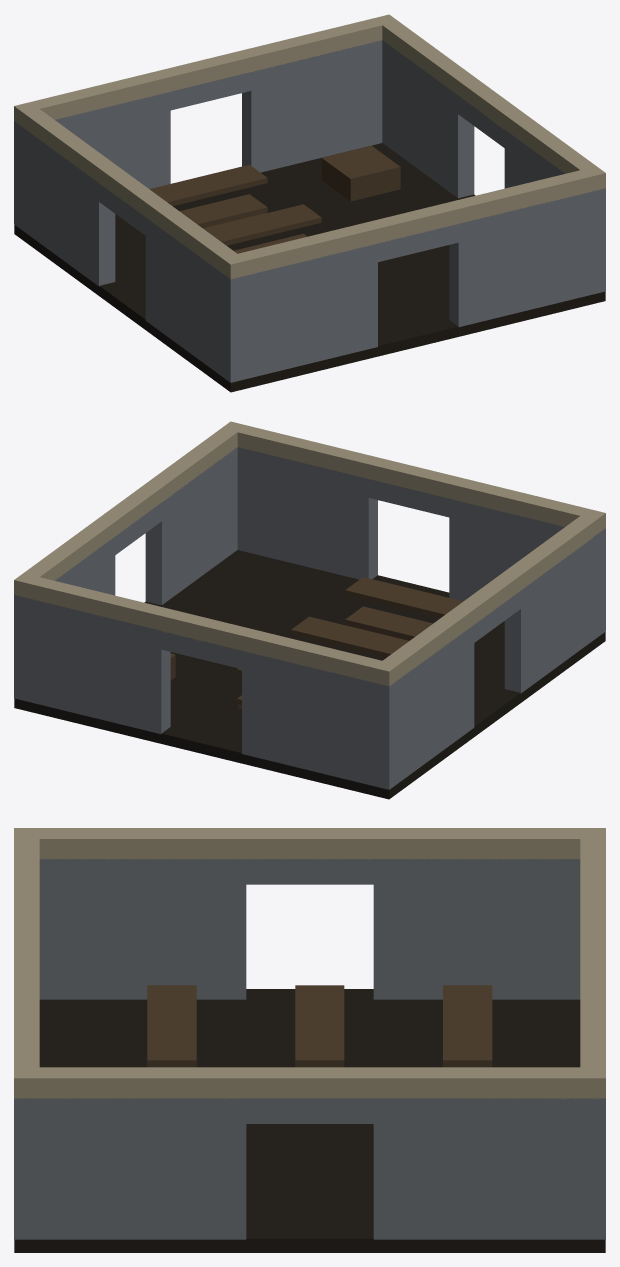
File: BarracksBunk.fbx
The picture shows the model from 3 angles, top to bottom: view 1: azimuth 30°, elevation 25°; view 2: azimuth 150°, elevation 25°; view 3: azimuth 270°, elevation 25°; orthographic projection. The views are drawn at different scales.
Visible parts, largest first — view 1: BarracksBunk; view 2: BarracksBunk; view 3: BarracksBunk.
Boxes of the visible parts, x1,y1,x2,y2 form: BarracksBunk: [14, 14, 605, 392]; BarracksBunk: [14, 421, 605, 799]; BarracksBunk: [14, 828, 605, 1252].
Size of the model in its own units: 1202 by 392 by 1202.
Materials: 5 (5 with a texture image).
